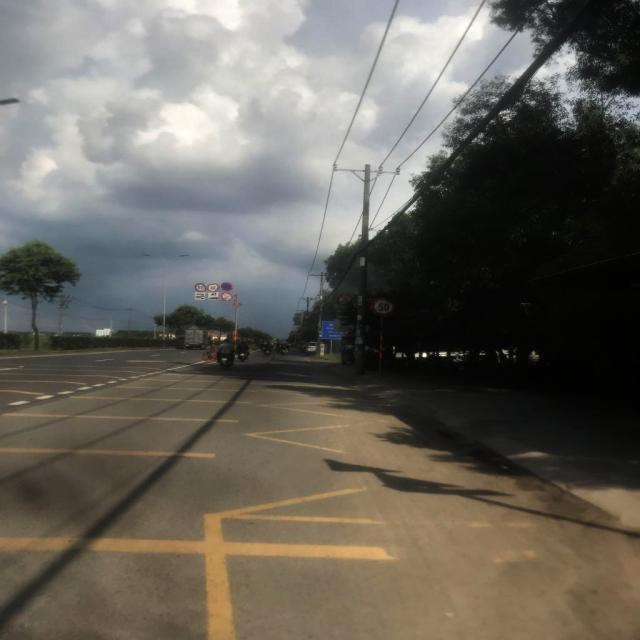cam_dung_xe_va_do_xe: (222, 282, 234, 292)
cam_xe_2_banh_va_xe_3_banh_co_dong_co: (221, 292, 233, 301)
khac: (194, 296, 206, 300), (195, 292, 206, 296), (208, 292, 219, 296), (208, 296, 219, 300)
toc_do_toi_da_50: (369, 298, 395, 318)
toc_do_toi_da_60: (208, 284, 220, 292)
toc_do_toi_da_80: (195, 283, 207, 292)
